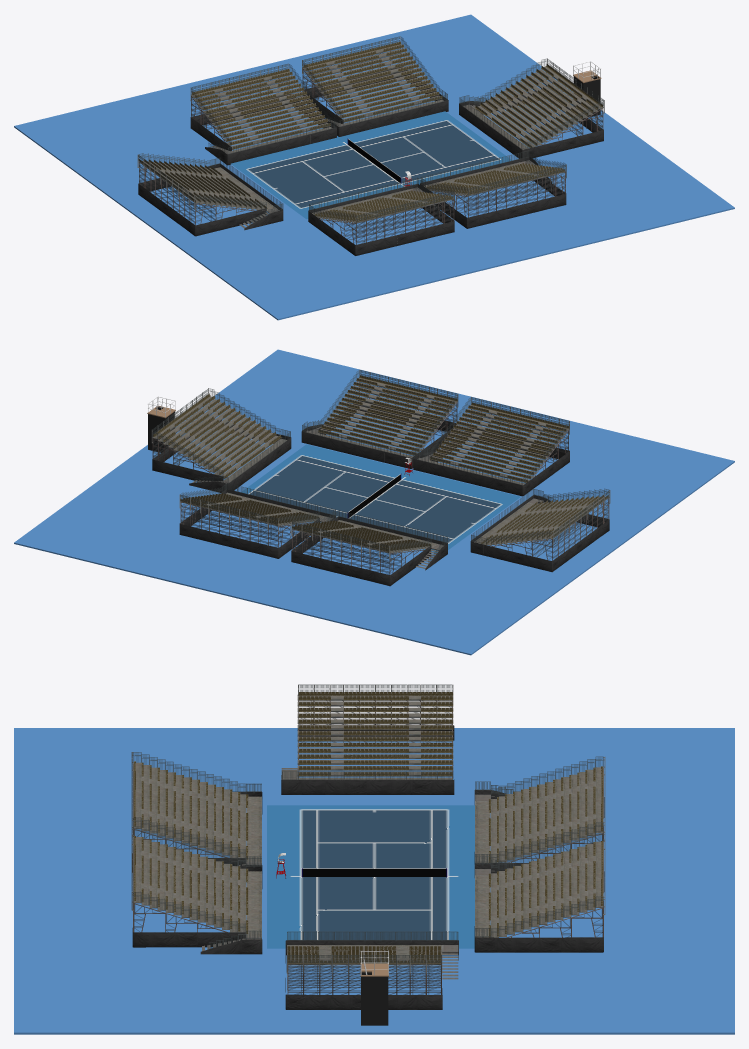
Rendered from court-left.glb.
The picture shows the model from 3 angles, top to bottom: view 1: azimuth 30°, elevation 25°; view 2: azimuth 150°, elevation 25°; view 3: azimuth 270°, elevation 25°; orthographic projection. The views are drawn at different scales.
Visible parts, largest first — view 1: Plane.001, Plane, Node_013_mel_grandstand_genericmedium_a_physics_!bk, Node_013_mel_grandstand_genericmedium_a_physics_!bk.001, Node_013_mel_grandstand_genericmedium_a_physics_!bk.002, Node_013_mel_grandstand_genericmedium_a_physics_!bk.005, Node_013_mel_grandstand_genericmedium_a_physics_!bk.003, Node_013_mel_grandstand_genericmedium_a_physics_!bk.004; view 2: Plane.001, Plane, Node_013_mel_grandstand_genericmedium_a_physics_!bk.003, Node_013_mel_grandstand_genericmedium_a_physics_!bk.004, Node_013_mel_grandstand_genericmedium_a_physics_!bk.002, Node_013_mel_grandstand_genericmedium_a_physics_!bk, Node_013_mel_grandstand_genericmedium_a_physics_!bk.005, Node_013_mel_grandstand_genericmedium_a_physics_!bk.001; view 3: Plane.001, Plane, Node_013_mel_grandstand_genericmedium_a_physics_!bk.005, Node_013_mel_grandstand_genericmedium_a_physics_!bk.004, Node_013_mel_grandstand_genericmedium_a_physics_!bk.001, Node_013_mel_grandstand_genericmedium_a_physics_!bk.002, Node_013_mel_grandstand_genericmedium_a_physics_!bk.003, Node_013_mel_grandstand_genericmedium_a_physics_!bk, Tower_Base_Wall_3, Tennis_Net_Strings.
Boxes of the visible parts, left/top/right/bottom form: Plane.001: left=14, top=14, right=734, bottom=320; Plane: left=231, top=111, right=511, bottom=219; Node_013_mel_grandstand_genericmedium_a_physics_!bk: left=190, top=63, right=336, bottom=165; Node_013_mel_grandstand_genericmedium_a_physics_!bk.001: left=302, top=36, right=448, bottom=136; Node_013_mel_grandstand_genericmedium_a_physics_!bk.002: left=459, top=58, right=604, bottom=158; Node_013_mel_grandstand_genericmedium_a_physics_!bk.005: left=137, top=153, right=283, bottom=236; Node_013_mel_grandstand_genericmedium_a_physics_!bk.003: left=308, top=177, right=454, bottom=255; Node_013_mel_grandstand_genericmedium_a_physics_!bk.004: left=420, top=150, right=566, bottom=228; Plane.001: left=14, top=349, right=734, bottom=655; Plane: left=241, top=444, right=520, bottom=552; Node_013_mel_grandstand_genericmedium_a_physics_!bk.003: left=413, top=397, right=569, bottom=496; Node_013_mel_grandstand_genericmedium_a_physics_!bk.004: left=301, top=370, right=458, bottom=468; Node_013_mel_grandstand_genericmedium_a_physics_!bk.002: left=151, top=388, right=291, bottom=492; Node_013_mel_grandstand_genericmedium_a_physics_!bk: left=291, top=510, right=447, bottom=586; Node_013_mel_grandstand_genericmedium_a_physics_!bk.005: left=470, top=488, right=610, bottom=572; Node_013_mel_grandstand_genericmedium_a_physics_!bk.001: left=179, top=483, right=335, bottom=558; Plane.001: left=14, top=728, right=734, bottom=1034; Plane: left=267, top=805, right=474, bottom=948; Node_013_mel_grandstand_genericmedium_a_physics_!bk.005: left=281, top=684, right=454, bottom=794; Node_013_mel_grandstand_genericmedium_a_physics_!bk.004: left=131, top=826, right=262, bottom=954; Node_013_mel_grandstand_genericmedium_a_physics_!bk.001: left=474, top=831, right=605, bottom=952; Node_013_mel_grandstand_genericmedium_a_physics_!bk.002: left=285, top=931, right=458, bottom=1009; Node_013_mel_grandstand_genericmedium_a_physics_!bk.003: left=131, top=752, right=262, bottom=872; Node_013_mel_grandstand_genericmedium_a_physics_!bk: left=474, top=756, right=605, bottom=868; Tower_Base_Wall_3: left=361, top=976, right=388, bottom=1025; Tennis_Net_Strings: left=302, top=869, right=446, bottom=876.
Bounding box in the file's own units: 98.56 × 10.1 × 98.56.
Materials: 30 (19 with a texture image).
